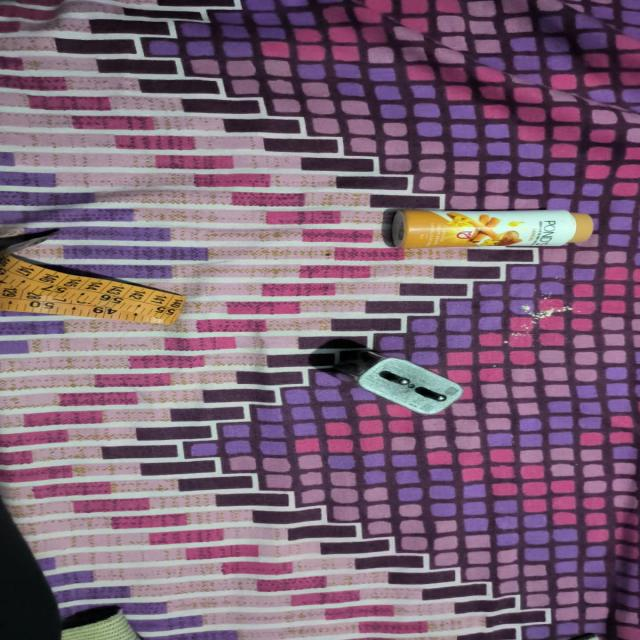dry: (338, 158, 640, 297)
